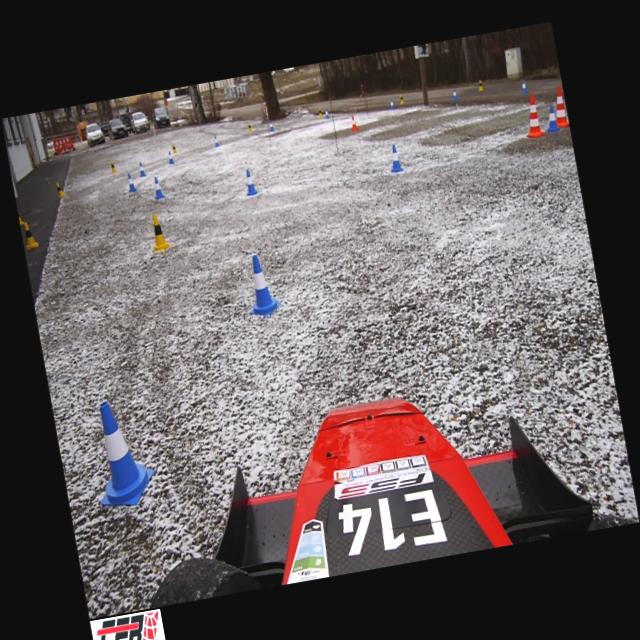blue_cone: (84, 395, 158, 510), (240, 252, 280, 314), (387, 143, 403, 172), (544, 104, 560, 132), (243, 168, 257, 196), (152, 176, 164, 198), (125, 172, 136, 192), (137, 161, 146, 176), (167, 150, 174, 163), (520, 80, 527, 93), (268, 120, 274, 132), (452, 87, 458, 99), (213, 136, 219, 146), (324, 108, 329, 118), (389, 100, 394, 110)
large_orange_cone: (520, 92, 544, 138), (550, 85, 569, 127)
orange_cone: (349, 114, 358, 131)
yellow_cone: (148, 212, 170, 250), (22, 220, 40, 250), (56, 181, 64, 197), (17, 208, 24, 225), (109, 158, 116, 172), (476, 78, 484, 90), (398, 92, 404, 104), (247, 122, 252, 132), (172, 144, 176, 154), (318, 108, 322, 118)
